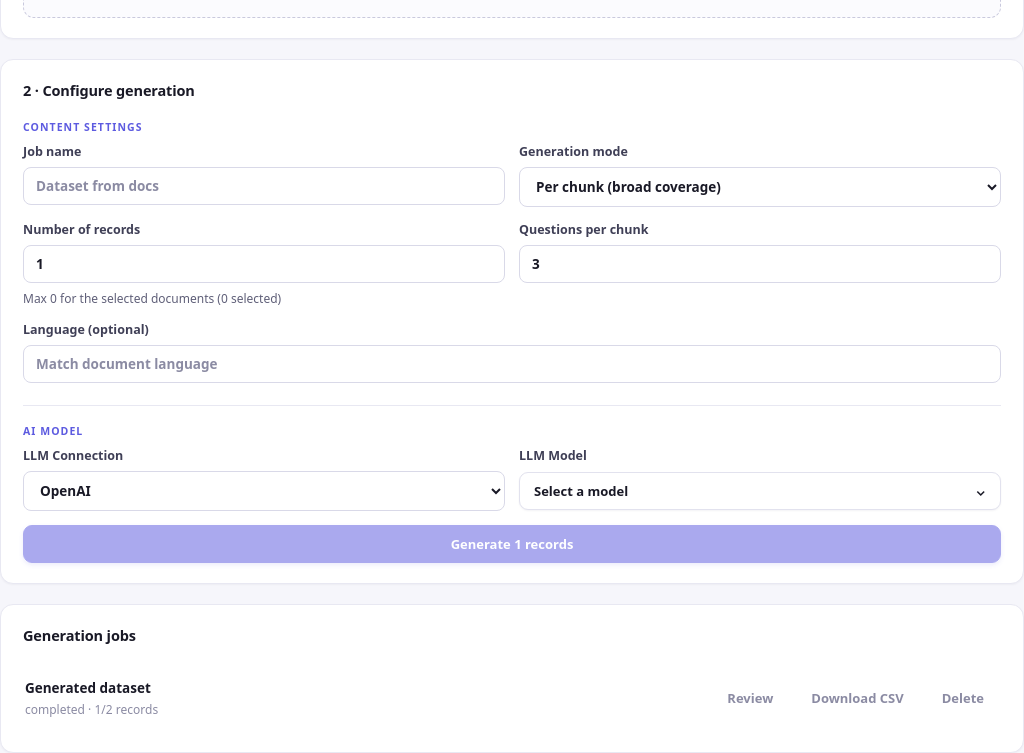
Test: GenerateWizard › serializes same-field edits in server order
(page scrolled)
Click the button "Review".
click(750, 699)  # box [712,682,788,715]
(page scrolled)
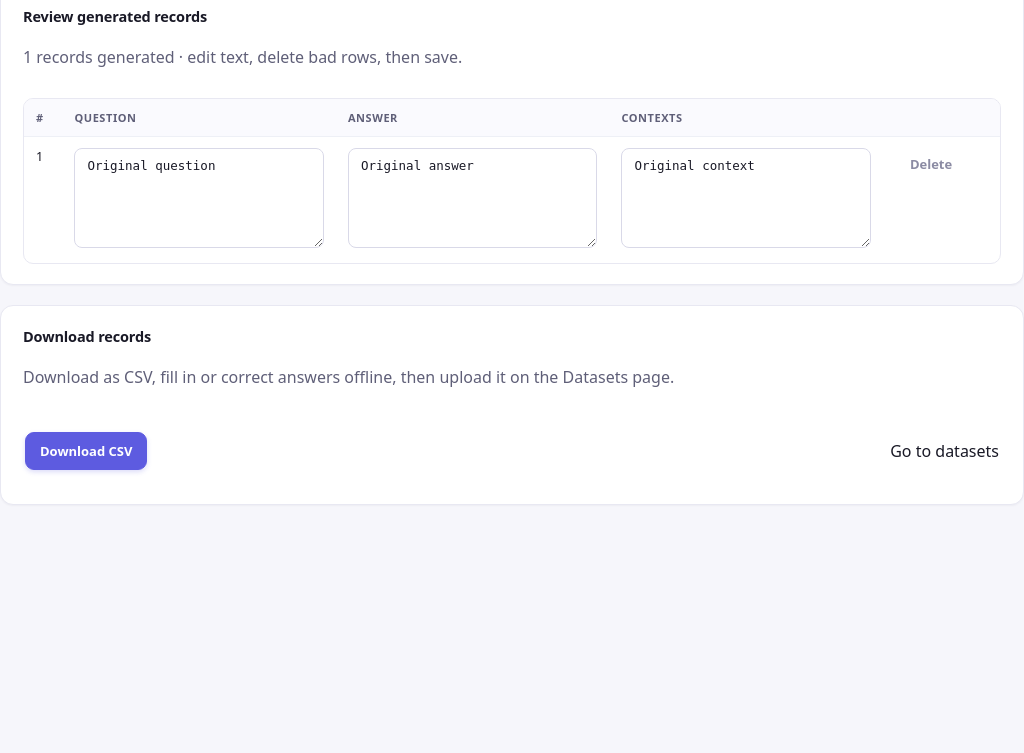
Replace the text in the text box named "Question 1" with "First edit" at x=199, y=198, box [74,148,324,248]
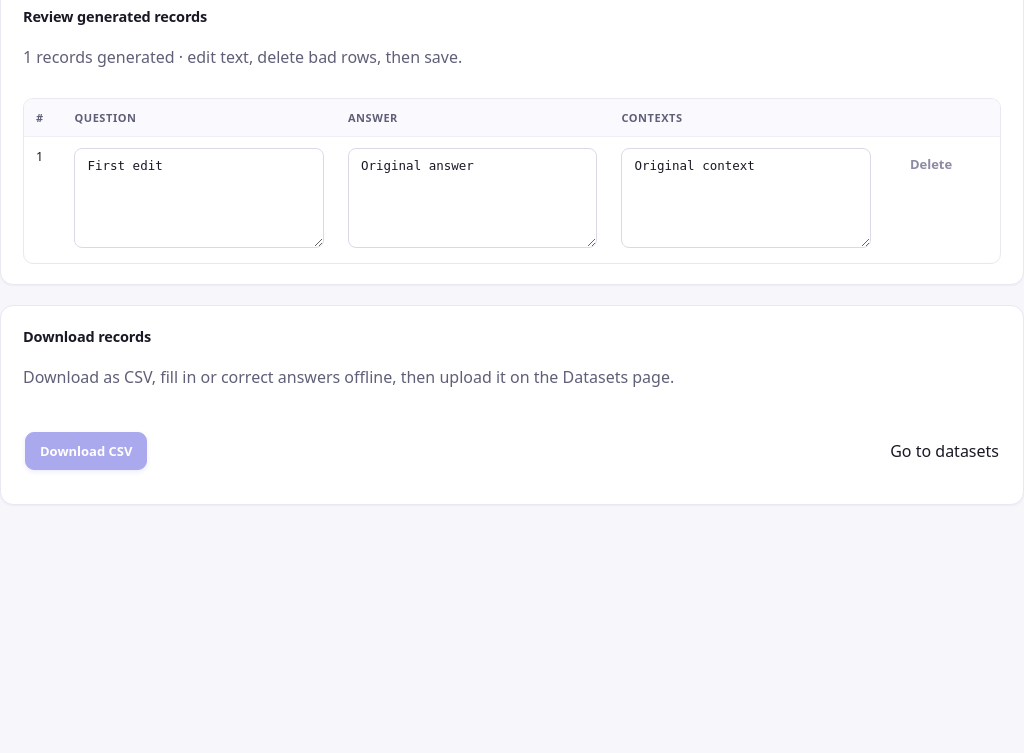
Replace the text in the text box named "Question 1" with "Second edit" at x=199, y=198, box [74,148,324,248]
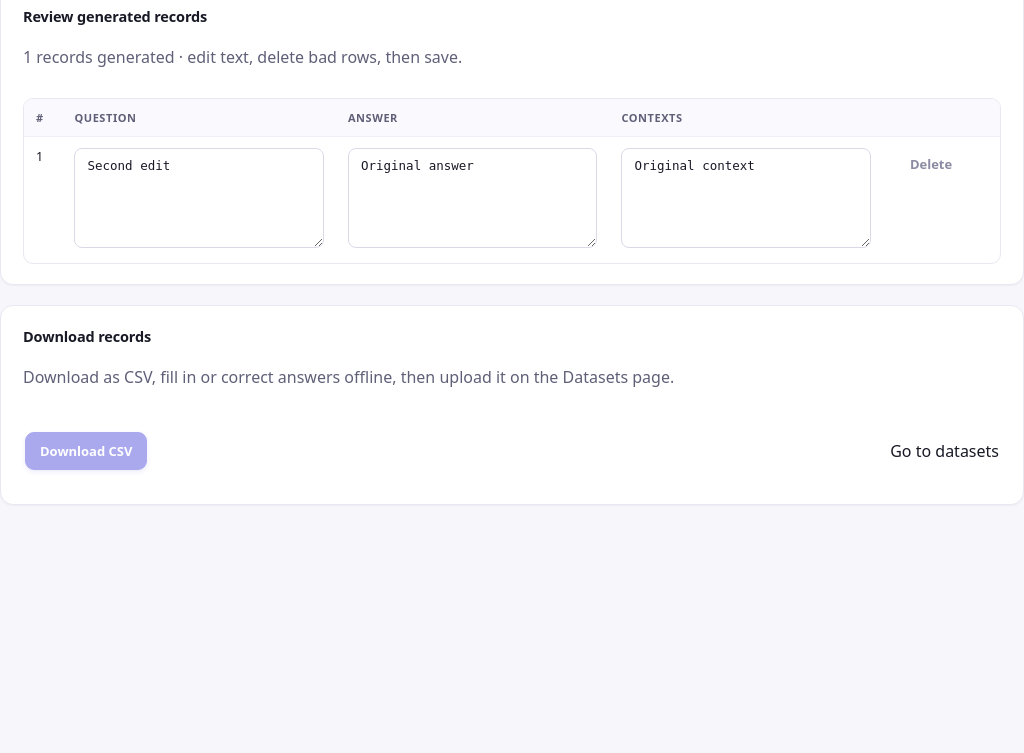
Leave the text box named "Question 1", box [74,148,324,248]
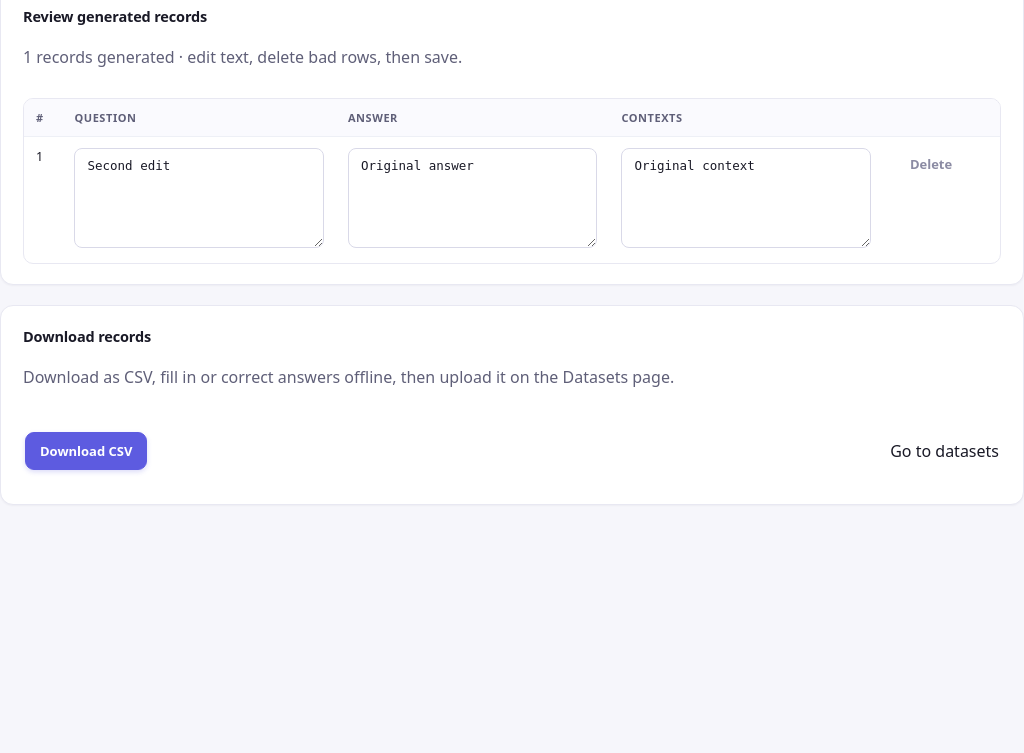
Expected: the button "Download CSV" is enabled, [25,432,148,470]
